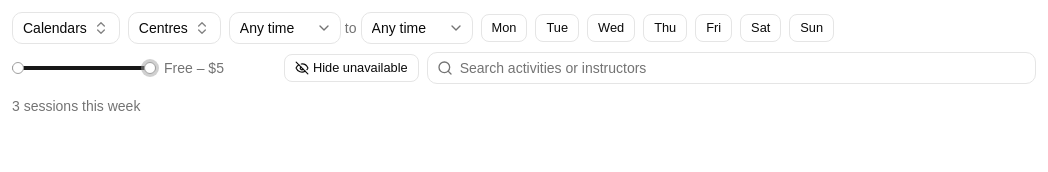
Test: FilterBar › walks the maximum price thumb down to free only
Check: the element with test id "price-range" reads "Free – $5", box [164,60,224,76]
Type keys "{PageDown>10/}"
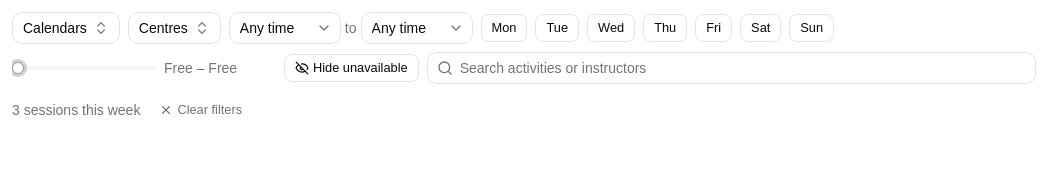
Check: the element with test id "price-range" shows "Free", box [164,60,237,76]
Check: the slider named "Maximum price" has attribute aria-valuenow="0", box [12,62,24,74]
Note: Clearing the filters puts the thumbs back at the ends of the track.
Click the button "Clear filters": (201, 110) [148,96,253,124]
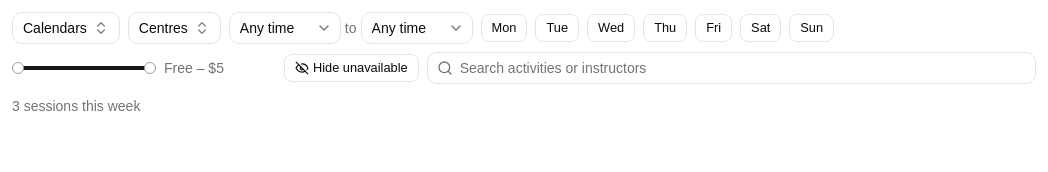
Check: the element with test id "price-range" reads "Free – $5", box [164,60,224,76]
